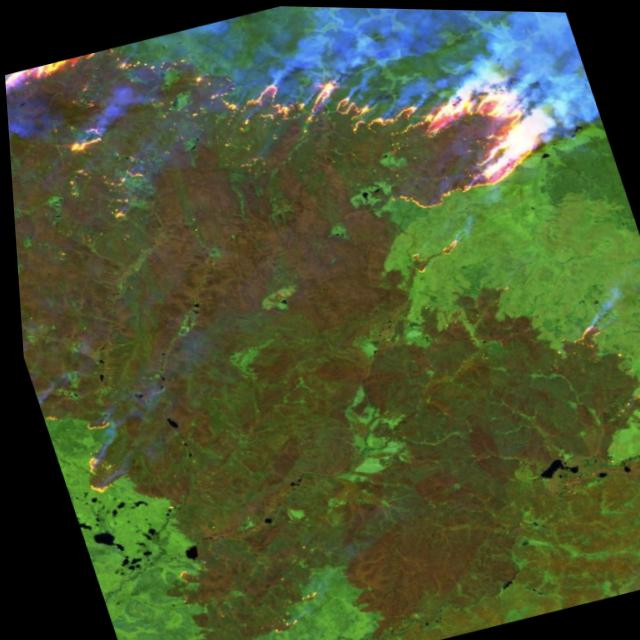fire: (0, 0, 622, 326), (46, 404, 134, 506), (539, 302, 621, 365), (390, 224, 476, 283)
